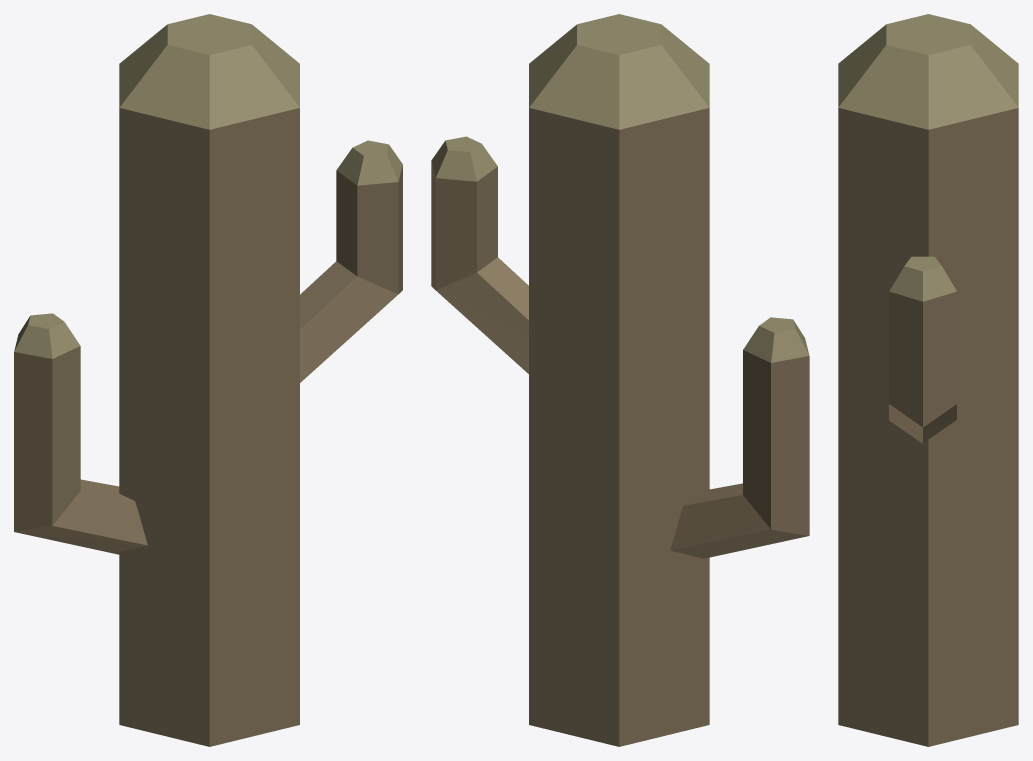
Rendered from TB_D_Env_CactusB_B.FBX.
3 views of the same model, side by side, from view 1: azimuth 30°, elevation 25°; view 2: azimuth 150°, elevation 25°; view 3: azimuth 270°, elevation 25° (orthographic).
Parts seen in each view (by area): view 1: TB_D_Env_CactusB_B; view 2: TB_D_Env_CactusB_B; view 3: TB_D_Env_CactusB_B.
Part boxes in pixels (x1,y1,x2,y2): TB_D_Env_CactusB_B: (14,14,402,746); TB_D_Env_CactusB_B: (431,14,809,746); TB_D_Env_CactusB_B: (838,14,1018,746).
Size of the model in its own units: 1.42 by 2.37 by 0.5799.
